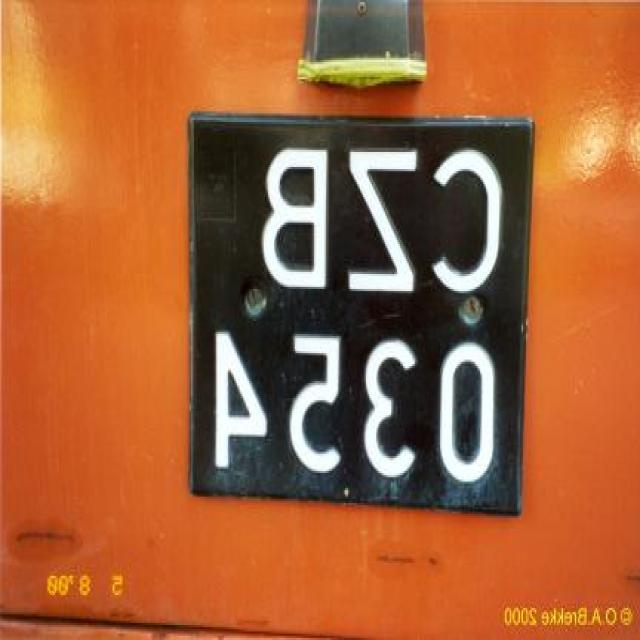pl_license_plate: (193, 118, 533, 498)
